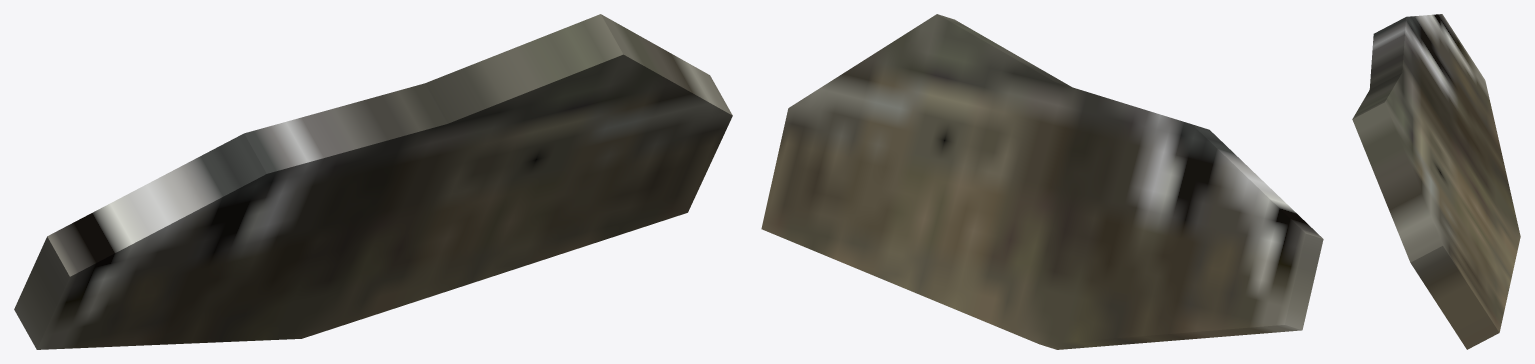
The model's file is USA - Aviation - Cargo Plane - Damage State 4 - AvCargoPln_d4.glb.
The picture shows the model from 3 angles, left to right: view 1: azimuth 30°, elevation 25°; view 2: azimuth 150°, elevation 25°; view 3: azimuth 270°, elevation 25°; orthographic projection. The views are drawn at different scales.
Parts seen in each view (by area): view 1: AVCARGOPLN_D4; view 2: AVCARGOPLN_D4; view 3: AVCARGOPLN_D4.
Boxes of the visible parts, bbox=[...] form: AVCARGOPLN_D4: bbox=[14, 14, 732, 349]; AVCARGOPLN_D4: bbox=[761, 14, 1323, 349]; AVCARGOPLN_D4: bbox=[1352, 14, 1520, 349].
Size of the model in its own units: 10.96 by 5.07 by 3.36.
1 material, 1 textured.
